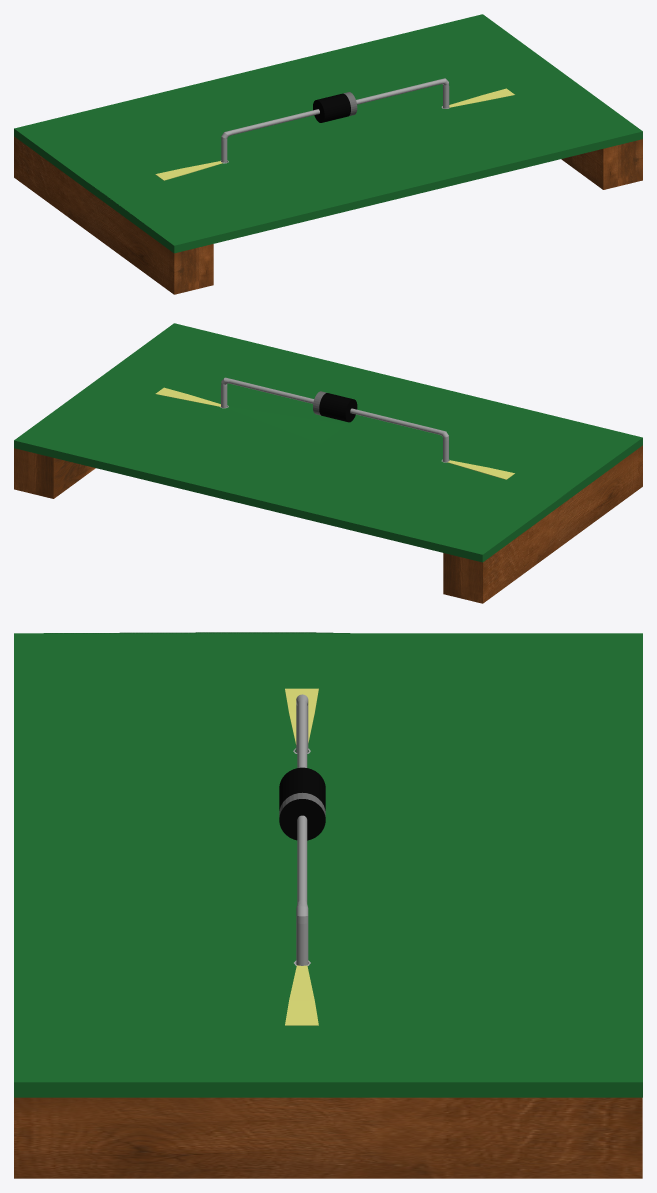
The model's file is Diod.gltf.
The picture shows the model from 3 angles, top to bottom: view 1: azimuth 30°, elevation 25°; view 2: azimuth 150°, elevation 25°; view 3: azimuth 270°, elevation 25°; orthographic projection. The views are drawn at different scales.
Visible parts, largest first — view 1: Cube.003; view 2: Cube.003; view 3: Cube.003.
Boxes of the visible parts, <box> form: Cube.003: <box>14,14,642,294</box>; Cube.003: <box>14,323,642,603</box>; Cube.003: <box>14,632,642,1178</box>.
Size of the model in its own units: 2 by 0.355 by 1.18.
7 materials, 1 textured.
